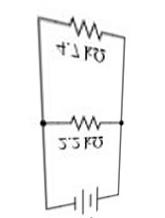resistor: (60, 19, 110, 41), (64, 110, 105, 132)
